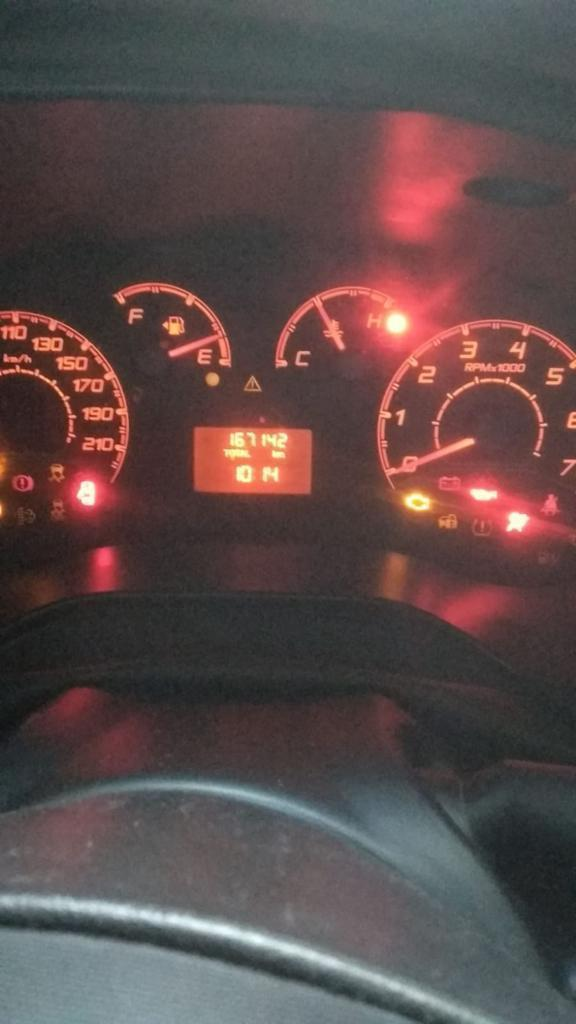0: (240, 464, 252, 482)
1: (262, 466, 268, 482), (235, 466, 241, 481), (260, 433, 266, 446), (229, 432, 234, 446)
2: (276, 432, 288, 448)
4: (267, 465, 279, 482), (266, 433, 276, 447)
6: (234, 431, 245, 447)
7: (245, 431, 256, 447)
X: (277, 451, 285, 458), (271, 449, 277, 458), (245, 449, 251, 458), (223, 448, 228, 458), (229, 448, 234, 458), (235, 448, 239, 458), (240, 449, 244, 458)
odometer: (190, 425, 313, 496)
